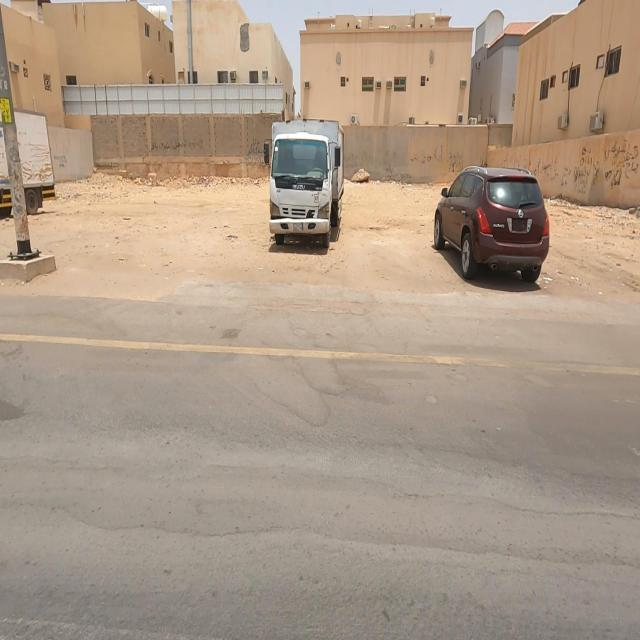debris: (98, 110, 267, 202), (370, 114, 507, 208), (549, 111, 617, 223), (583, 109, 640, 203)
